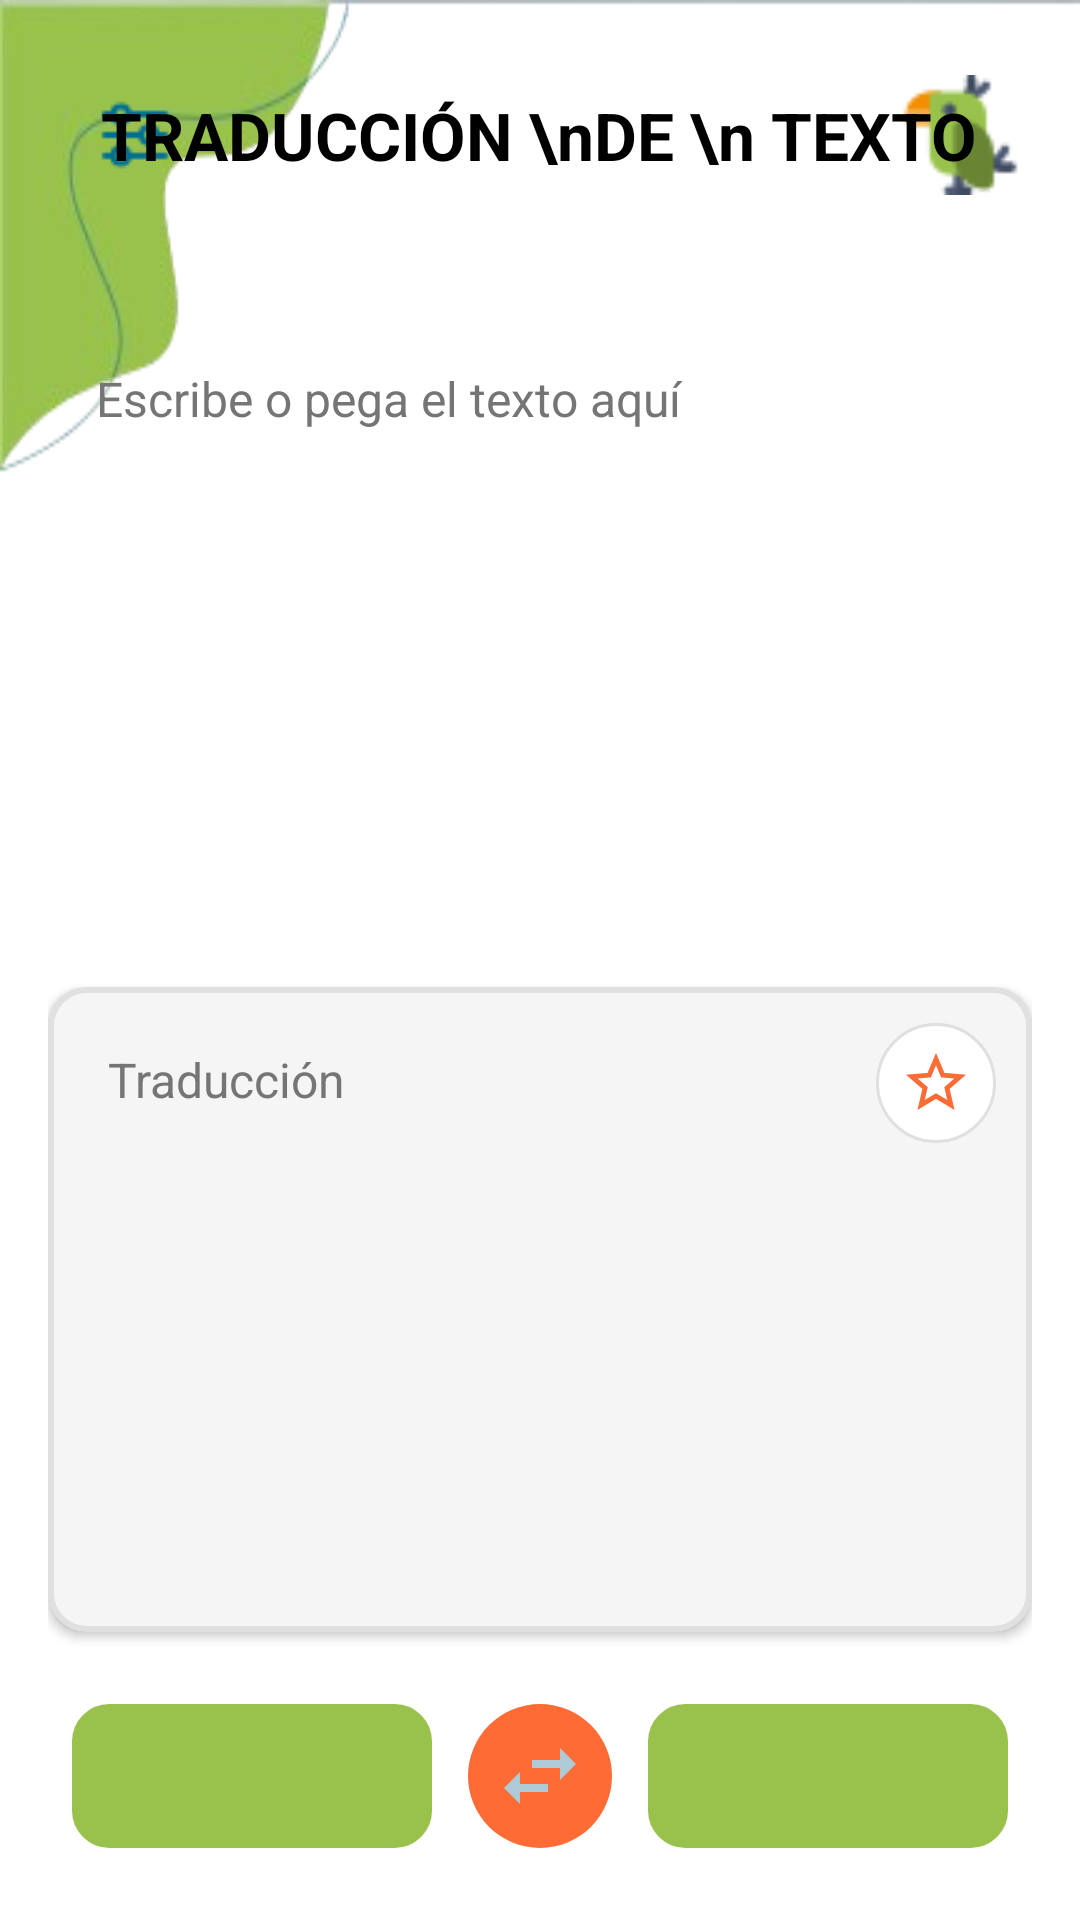

Screen size 1080×1920. Icon name, then its box in pixels as detection(x1, y1, x2, y2):
Añadir a favoritos: detection(876, 1023, 996, 1143)
Intercambiar idiomas: detection(468, 1704, 612, 1848)
